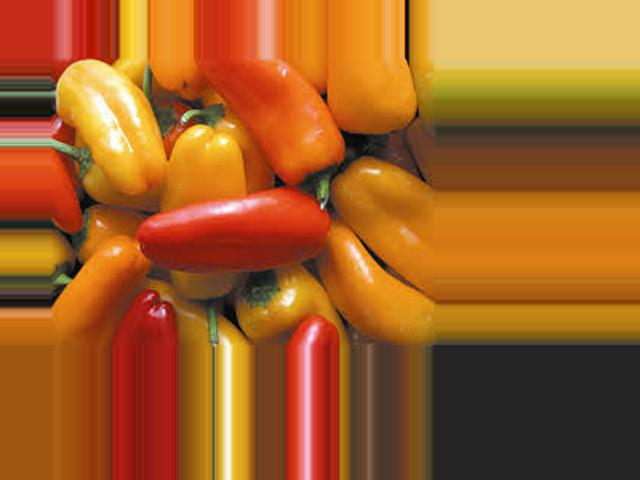bell_pepper: (51, 63, 173, 194)
